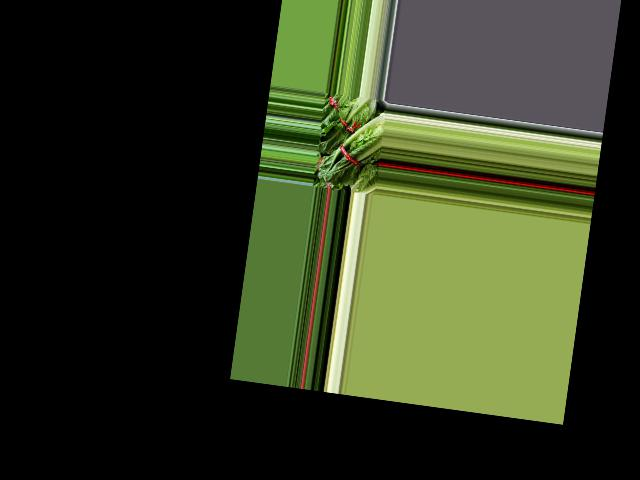lettuce: (316, 106, 386, 191)
